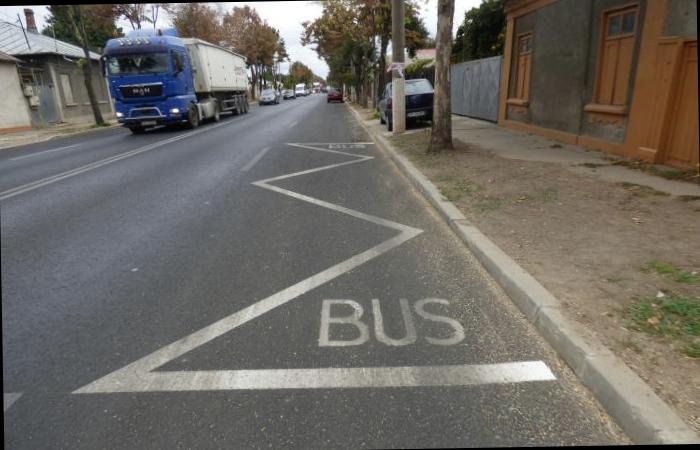faded_road_lines: (72, 183, 556, 393), (0, 121, 231, 201), (249, 143, 374, 193), (369, 298, 464, 348), (317, 299, 368, 349), (243, 145, 270, 171), (3, 392, 22, 416), (284, 118, 301, 129)
